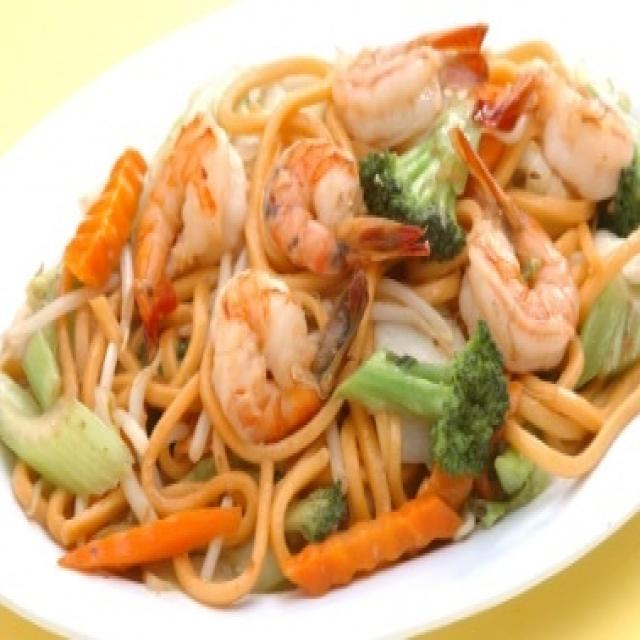面条主食: (17, 33, 633, 610)
